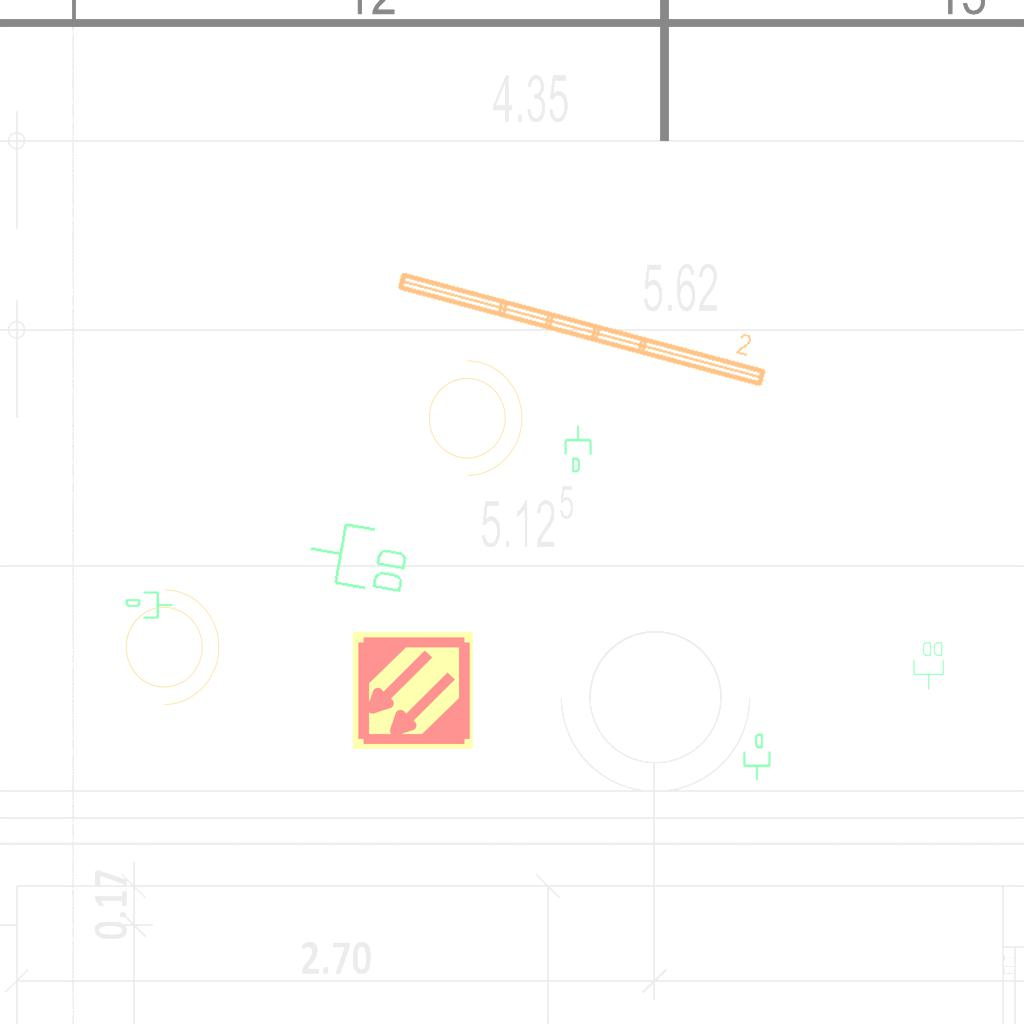ASR_Ansaugrauchmelder: (350, 628, 475, 753)
Ambulanz_Pendelleuchte_LED: (390, 239, 779, 395)
Datenanschluss_einfach: (562, 424, 596, 474), (739, 732, 773, 782), (124, 589, 174, 623)
Datenanschluss_zweifach: (301, 514, 416, 601), (912, 640, 946, 691)
Scheinwerfer_fuer_Alarmbeleuchtung: (416, 349, 528, 481), (113, 578, 225, 710)
